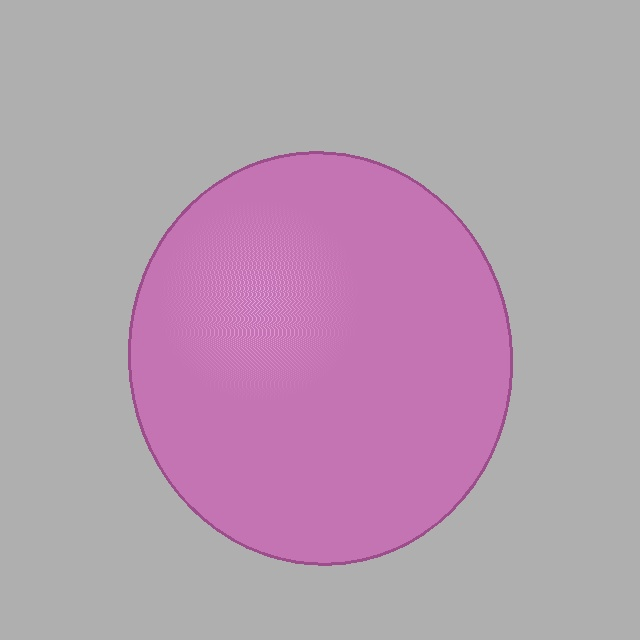lens: (130, 154, 510, 562)
